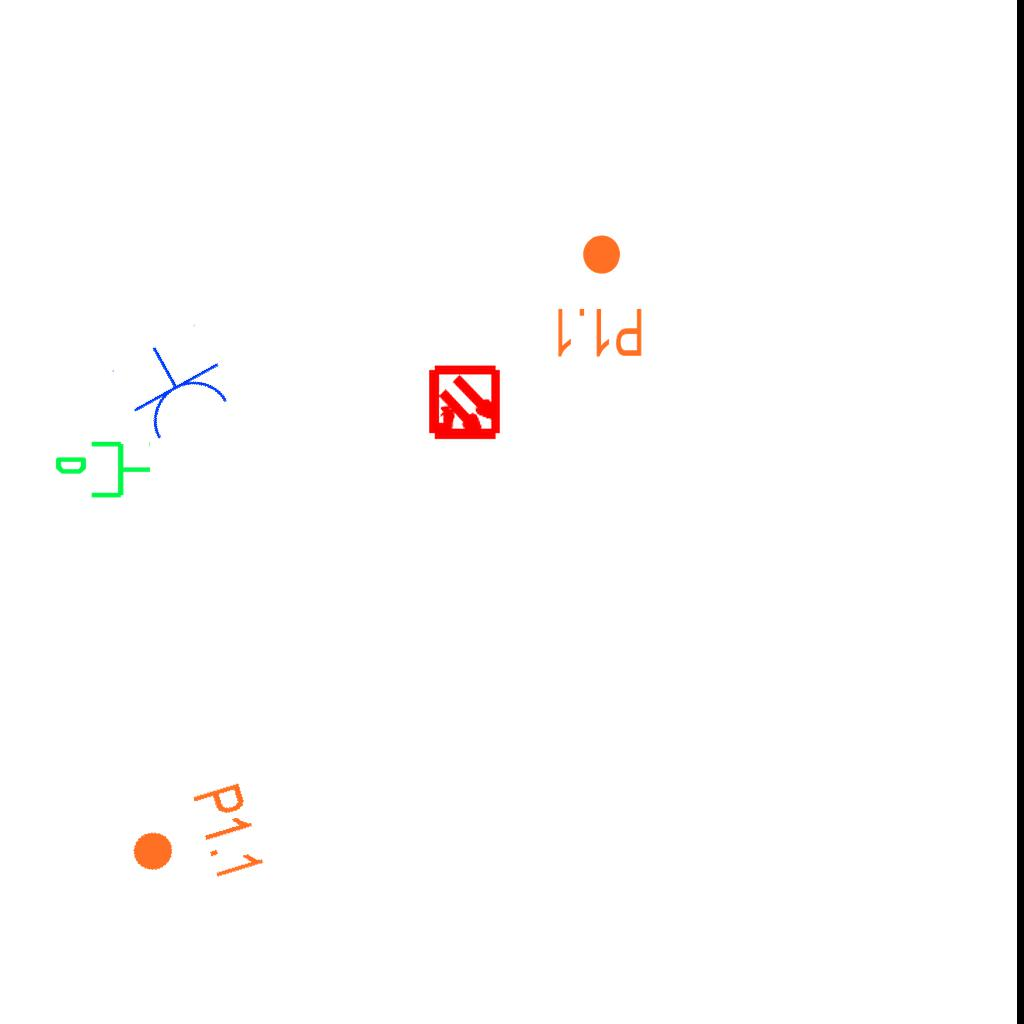Datenanschluss_einfach: (53, 437, 153, 506)
Downlight_LED_Einbauleuchten_Flur: (118, 778, 269, 906), (552, 232, 645, 360)
OT_Multisensormelder_(Kombination_RMO_WMD): (408, 348, 521, 461)
Schukosteckdose_einfach: (109, 323, 239, 448)
